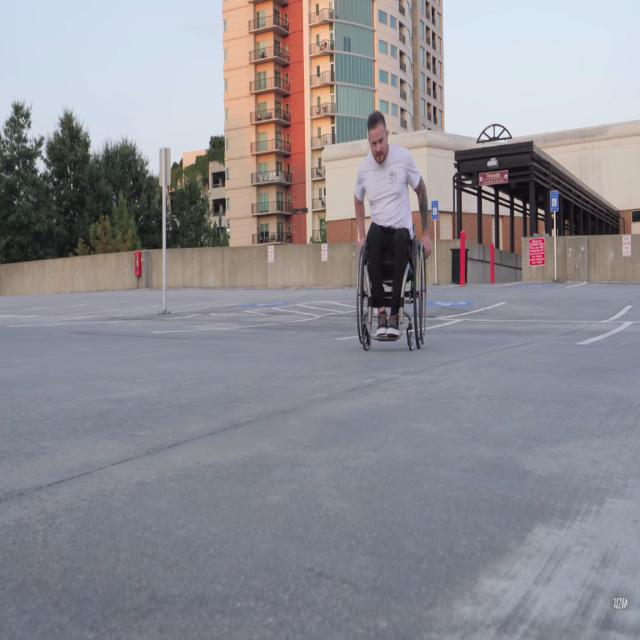wheelchairs: (356, 203, 430, 362)
